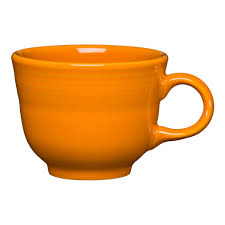cup: (5, 42, 225, 183)
